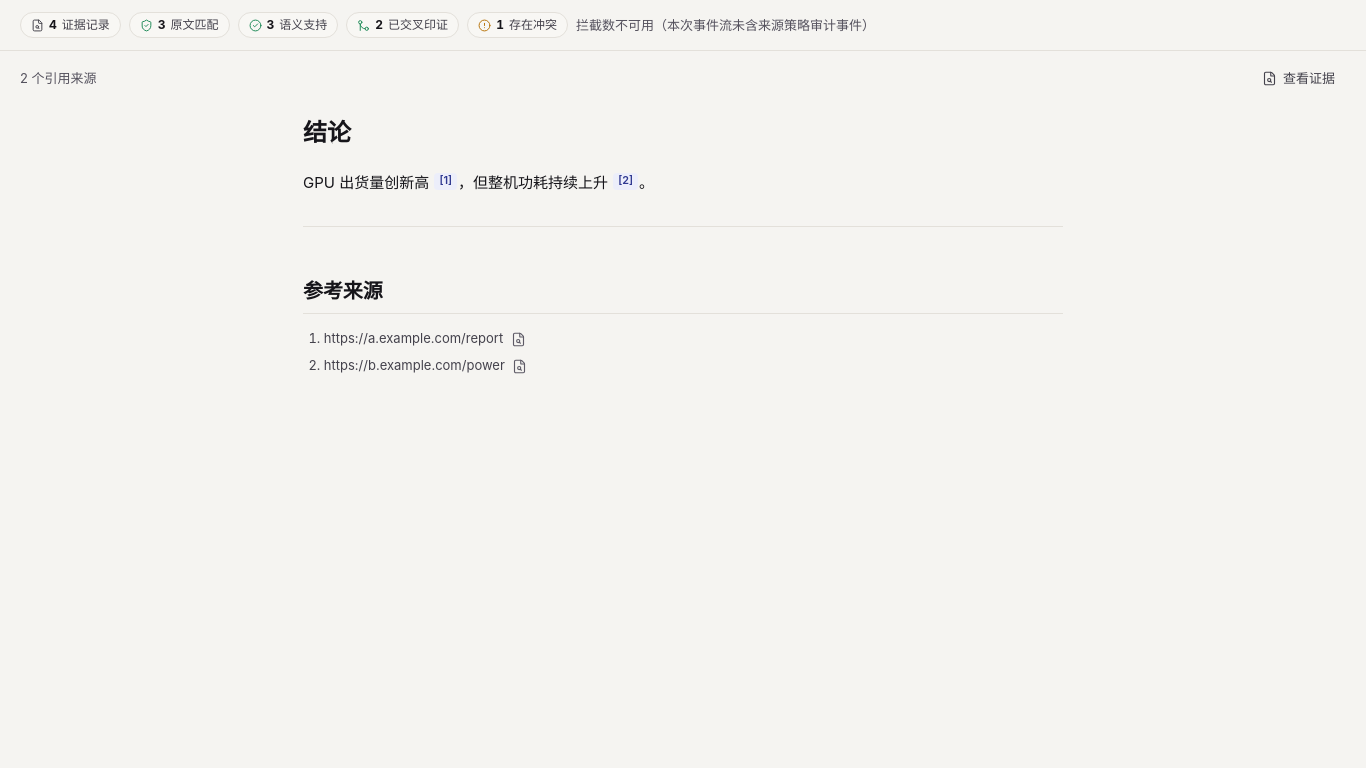
Test: ReportView 可审计证据链 › 点击 [1] 打开证据侧栏并显示检索上下文、原文匹配状态与哈希缩写
正文与参考来源列表里各有一个 [1] 角标，点第一个（正文）
Step 1. Click the button named "查看引用 1 的证据" → click(446, 181), box [434,173,457,190]
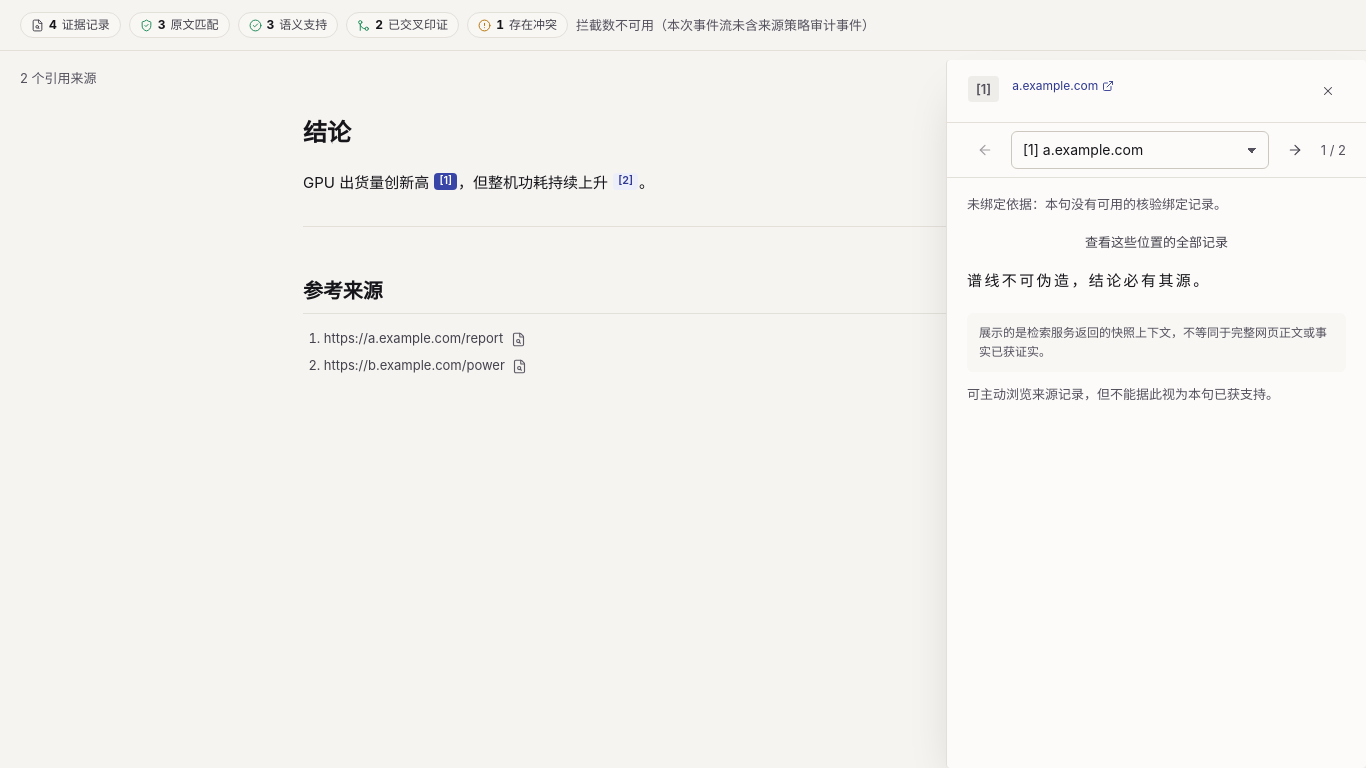
Step 2. Click the button "查看这些位置的全部记录" → click(1156, 242), box [967,227,1346,257]
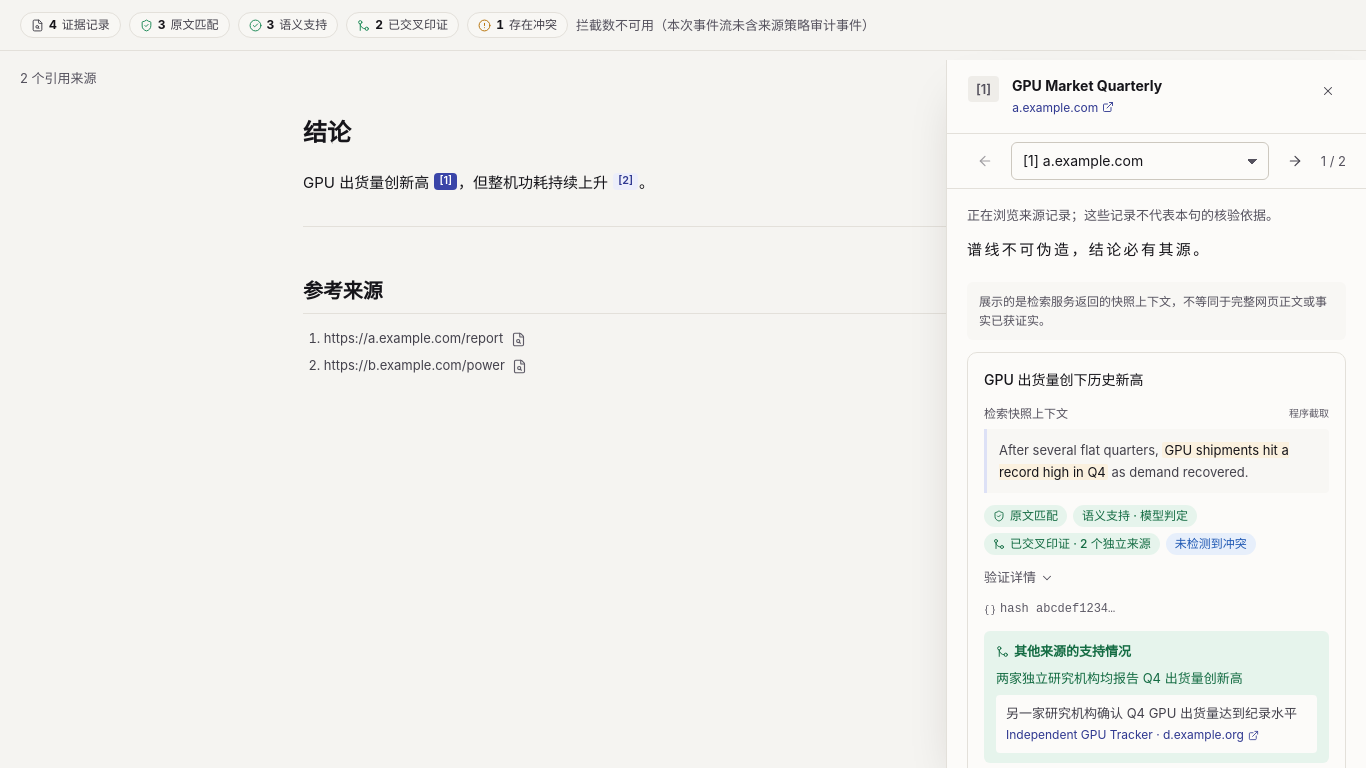
Now the text "After several flat quarters" is shown, box [999,442,1162,458]
Now the text "GPU 出货量创下历史新高" is shown, box [984,371,1144,388]
Now the text "GPU Market Quarterly" is shown, box [1012,76,1162,96]
